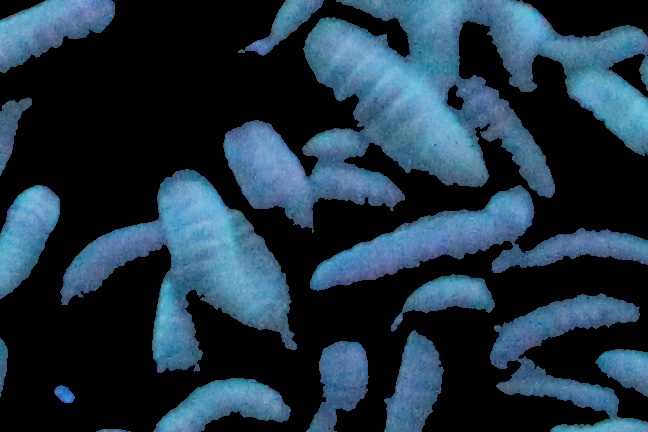larvae: (307, 26, 479, 188), (318, 208, 503, 293), (62, 199, 162, 319), (463, 77, 557, 194), (219, 117, 316, 227), (166, 170, 237, 319), (506, 217, 648, 287), (485, 291, 645, 351), (1, 1, 107, 74), (157, 377, 295, 432), (479, 374, 624, 421), (570, 67, 648, 153), (148, 275, 206, 381), (316, 333, 376, 432), (392, 330, 450, 432), (1, 185, 59, 285), (306, 164, 406, 212), (551, 22, 648, 68), (397, 280, 498, 315), (300, 120, 370, 163)
